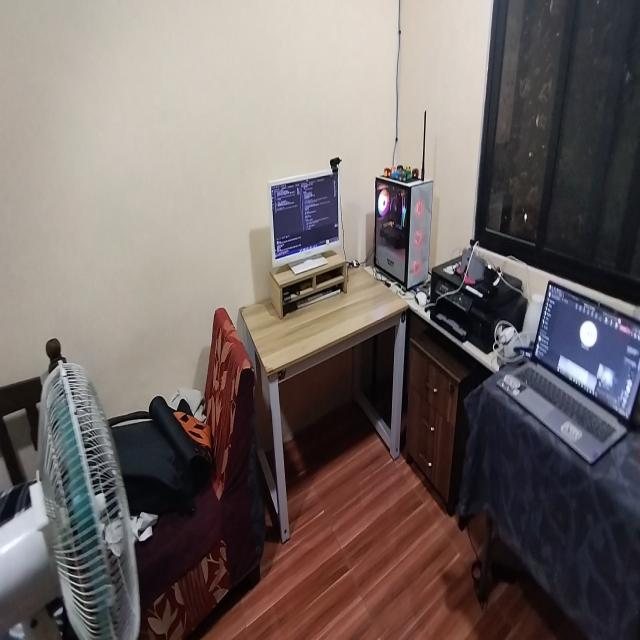table: (243, 266, 410, 504)
